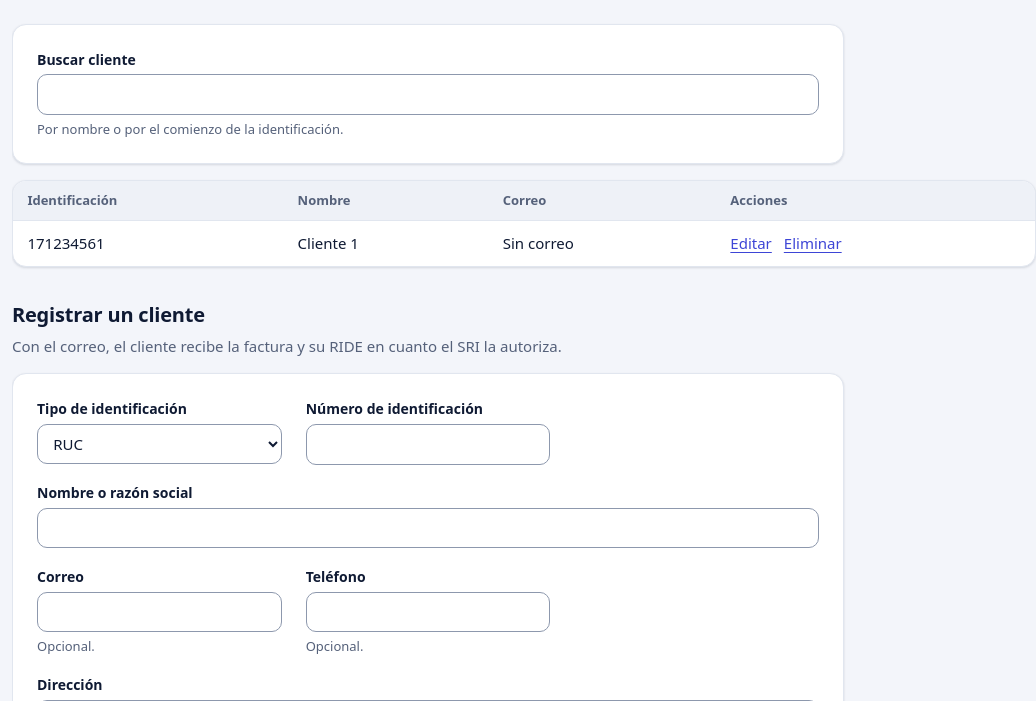
Test: Clientes › edits a customer in the list
Click the button with aria-label "Editar a Cliente 1" at (751, 243), box [730,232,772,255]
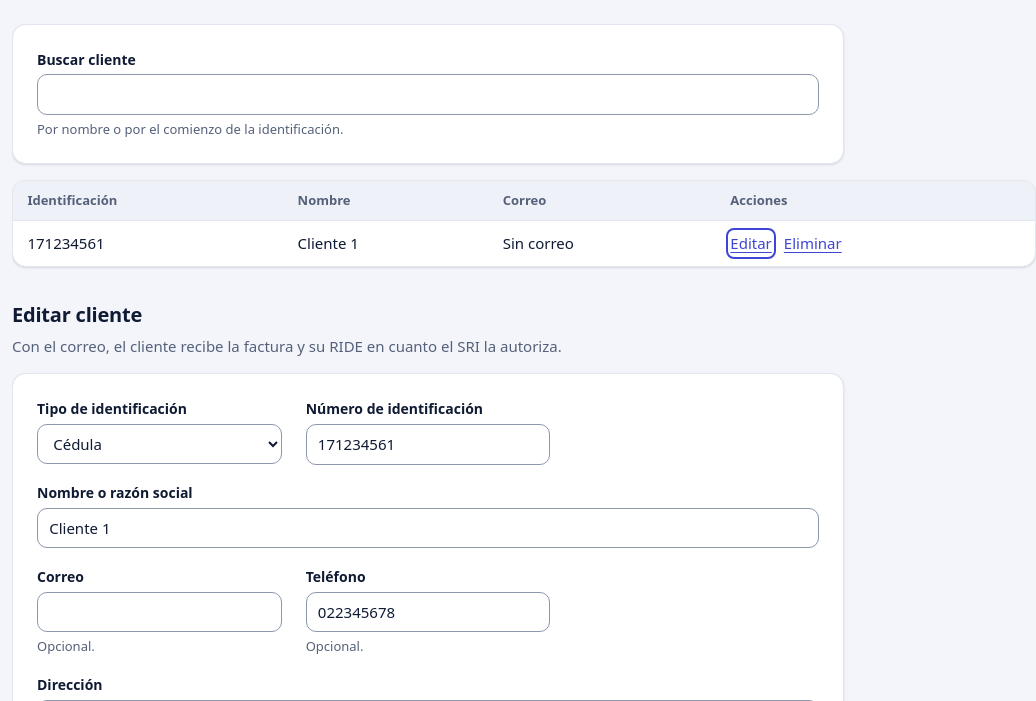
Expected: the field labelled "Número de identificación" holds "171234561", [306,424,550,464]
Replace the text in the field labelled "Nombre o razón social" with "Cliente actualizado" at (428, 528), box [37,508,819,548]
(page scrolled)
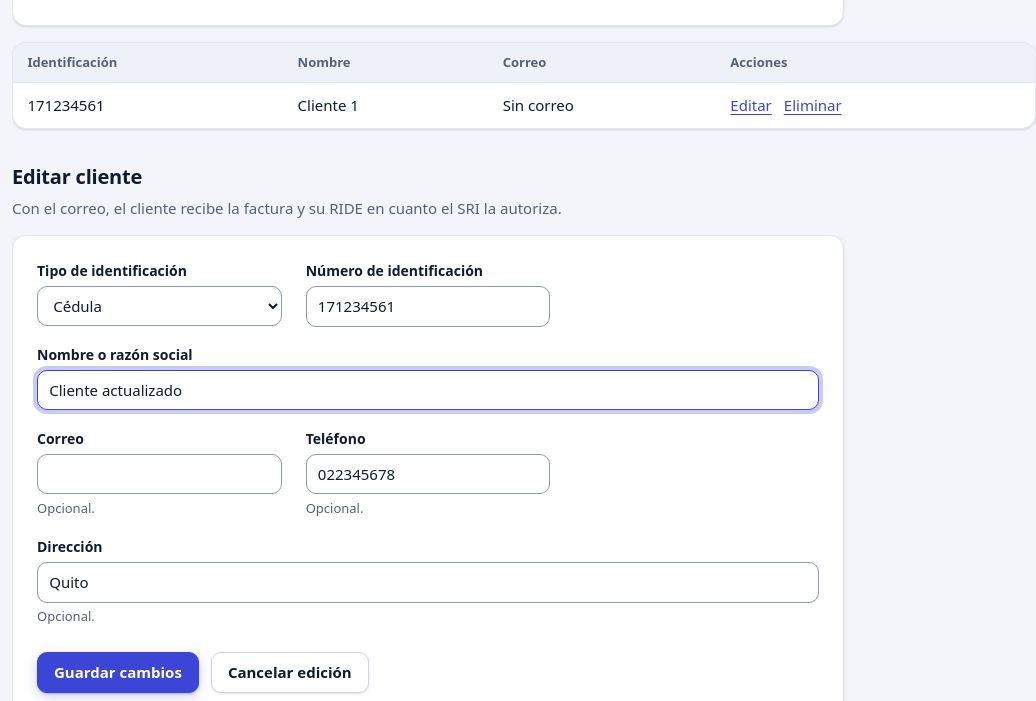
Click the button "Guardar cambios" at (118, 673), box [37,652,199,693]
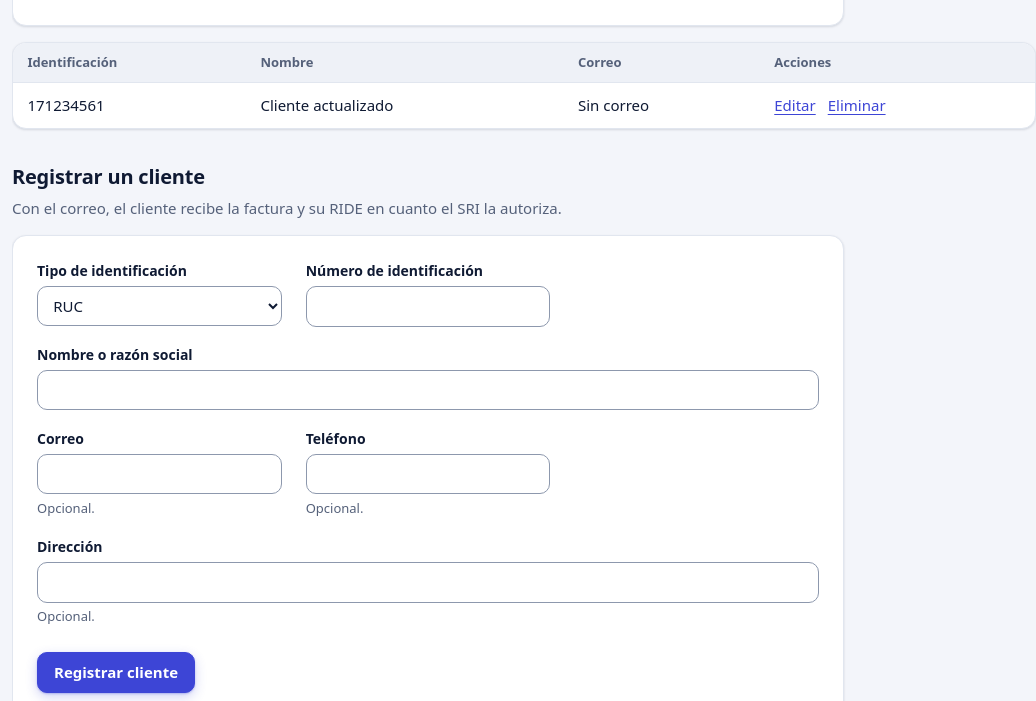
Expected: the cell "Cliente actualizado" is shown, [246,83,564,128]
